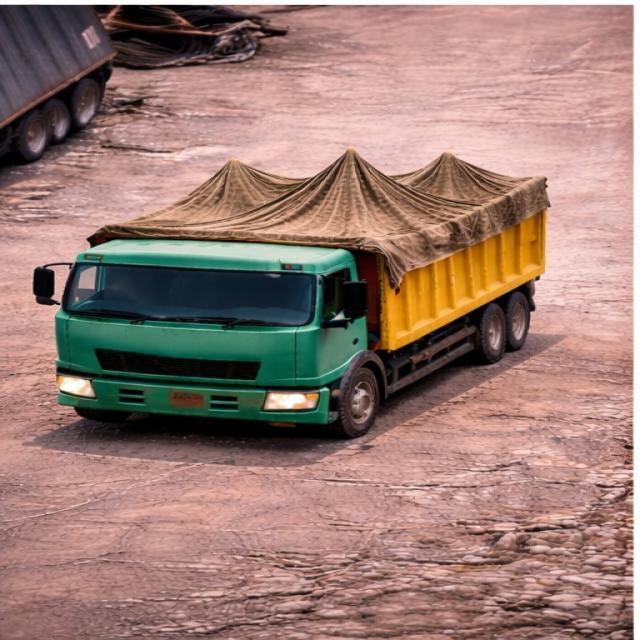Box: (93, 154, 552, 236)
Truck: (17, 142, 557, 436)
